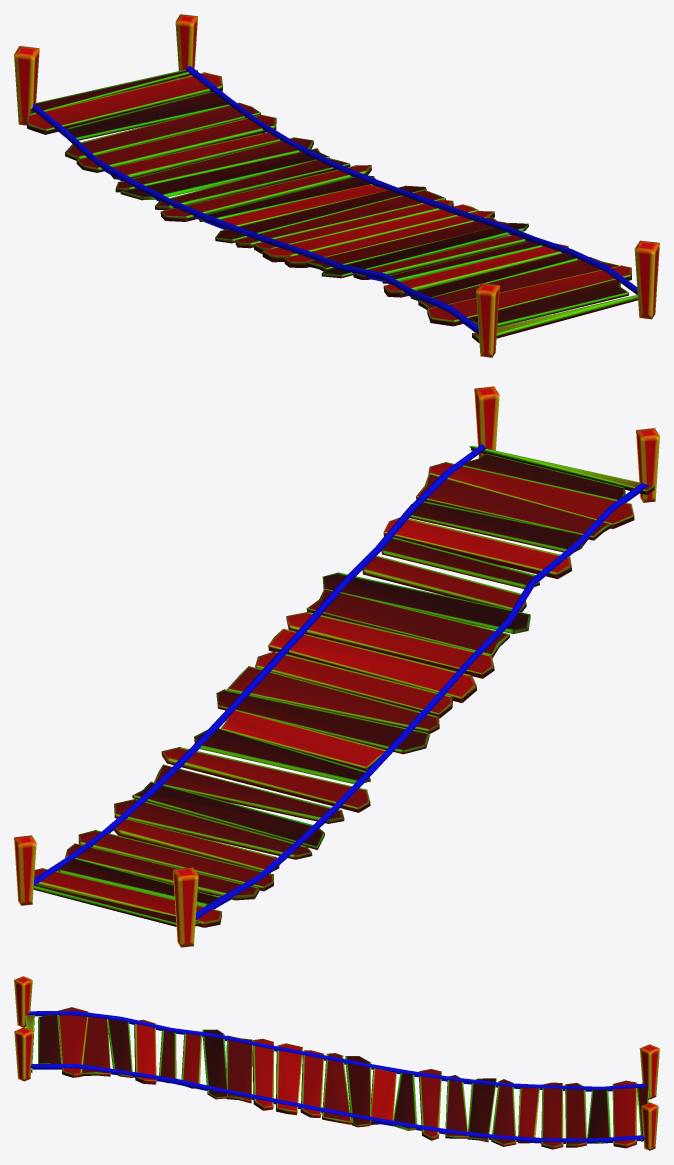
The model's file is SM_Bridge_05.FBX.
3 views of the same model, one above another, from view 1: azimuth 30°, elevation 25°; view 2: azimuth 150°, elevation 25°; view 3: azimuth 270°, elevation 25° (orthographic). The views are drawn at different scales.
Parts seen in each view (by area): view 1: SM_Bridge_05; view 2: SM_Bridge_05; view 3: SM_Bridge_05.
Boxes of the visible parts, box(x1,y1,x2,y2) form: SM_Bridge_05: box(14, 14, 659, 357); SM_Bridge_05: box(14, 386, 659, 947); SM_Bridge_05: box(14, 976, 659, 1150).
Size of what is drawn, in the model's own units: 431 by 1689 by 342.
